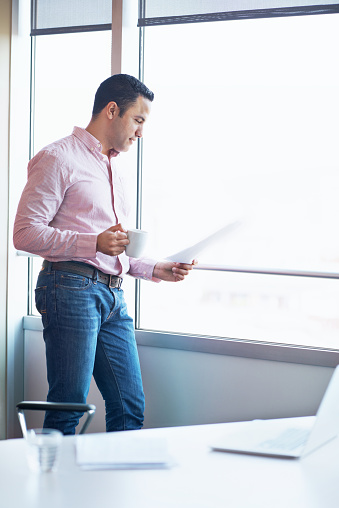em pe: (20, 70, 180, 432)
